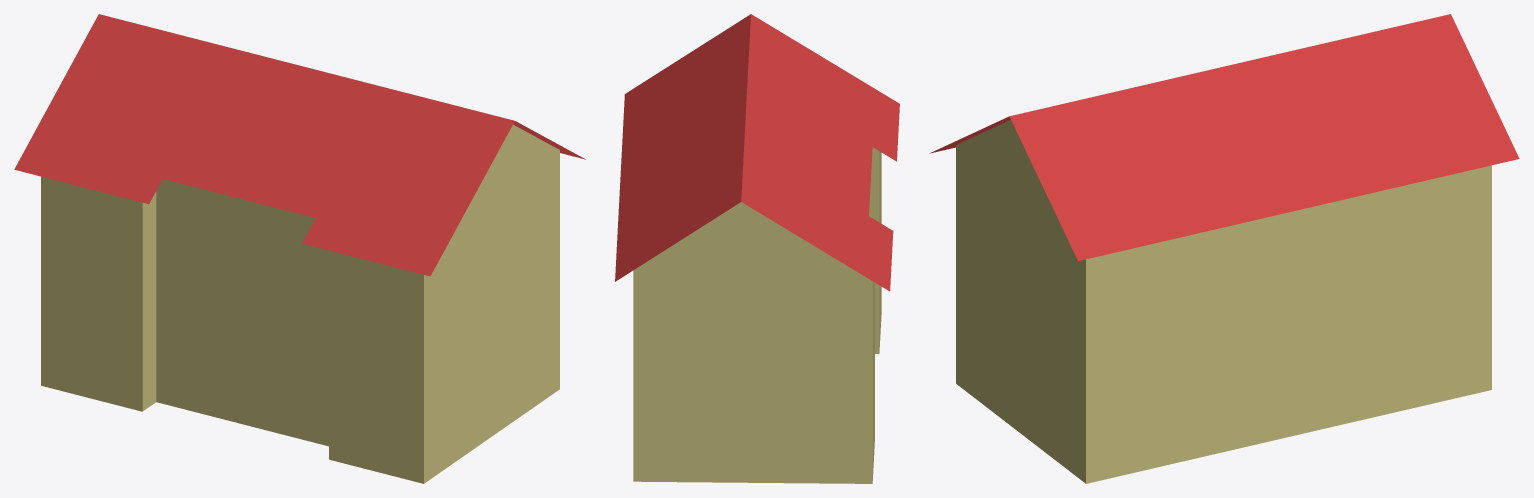
The picture shows the model from 3 angles, left to right: view 1: azimuth 30°, elevation 25°; view 2: azimuth 150°, elevation 25°; view 3: azimuth 270°, elevation 25°; orthographic projection. The views are drawn at different scales.
Size of the model in its own units: 19.09 by 21.91 by 13.34.
